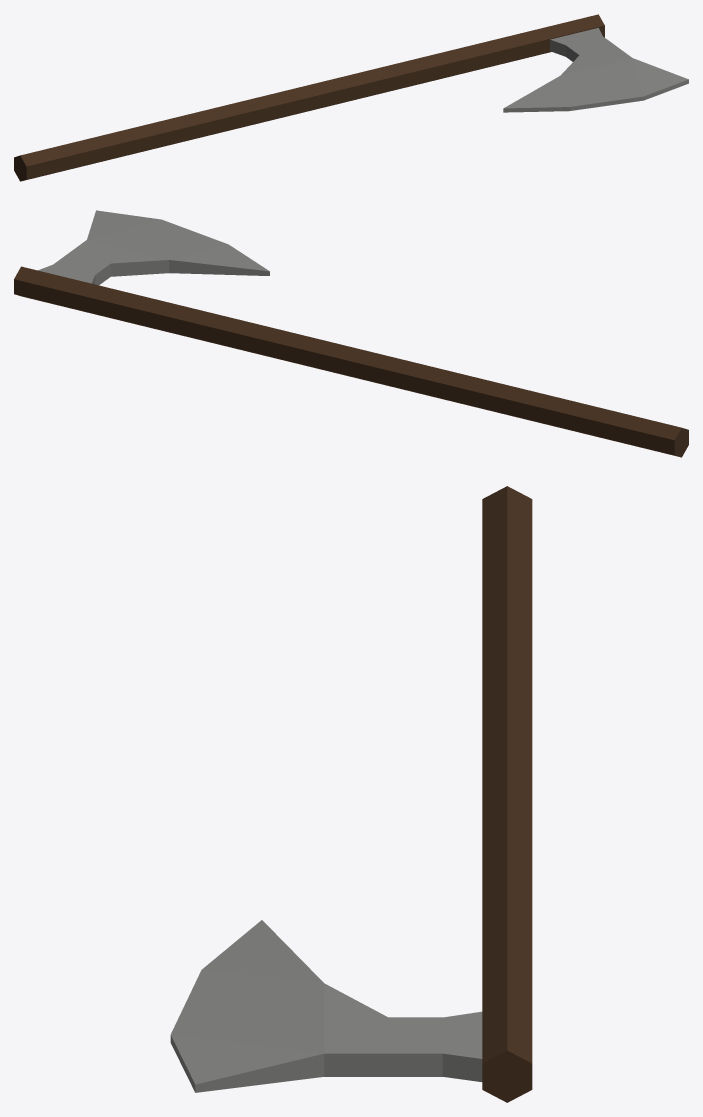
Rendered from axe_2h.fbx.
3 views of the same model, one above another, from view 1: azimuth 30°, elevation 25°; view 2: azimuth 150°, elevation 25°; view 3: azimuth 270°, elevation 25° (orthographic). The views are drawn at different scales.
Visible parts, largest first — view 1: axe_2h; view 2: axe_2h; view 3: axe_2h.
Part boxes in pixels (box(x1,y1,x2,y2)): axe_2h: box(14, 14, 688, 181); axe_2h: box(14, 210, 688, 457); axe_2h: box(170, 486, 532, 1102).
Bounding box in the file's own units: 2.76 × 0.1171 × 0.7323.
